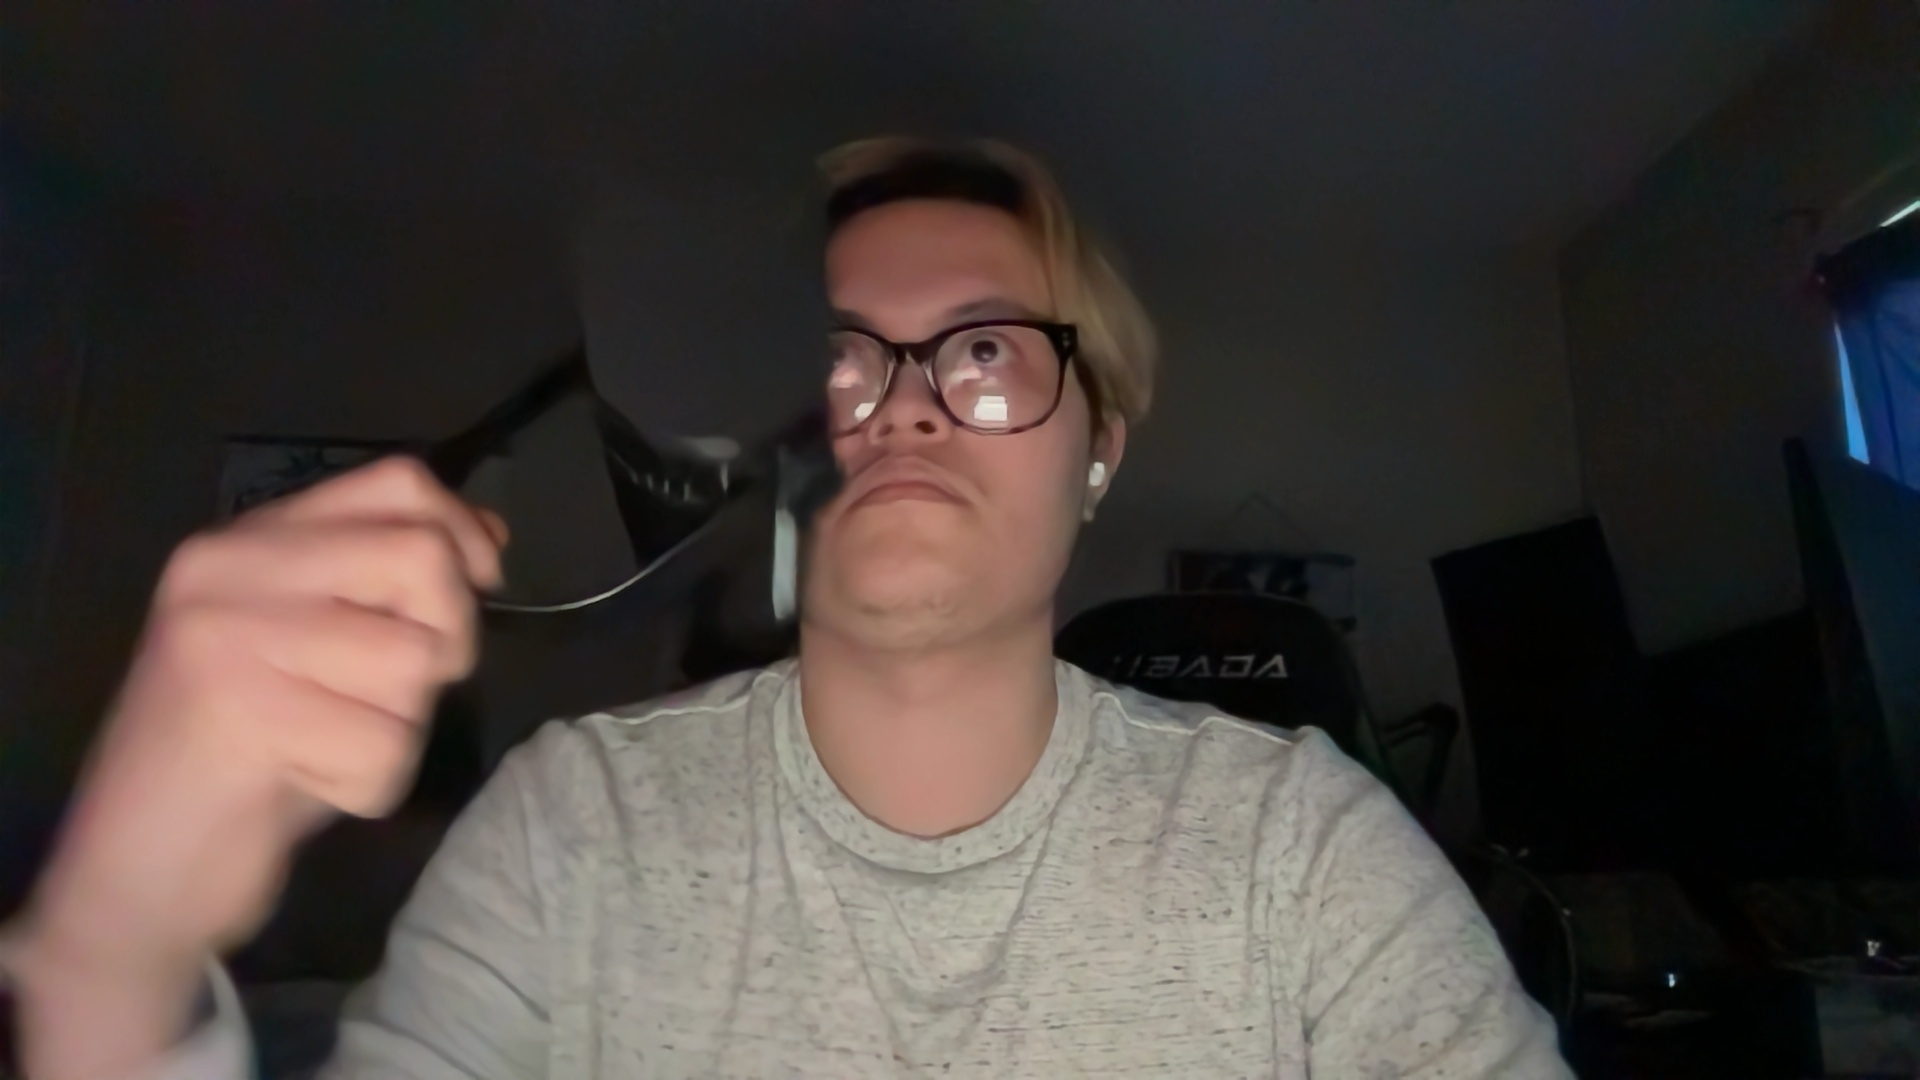microphone: (415, 98, 843, 661)
